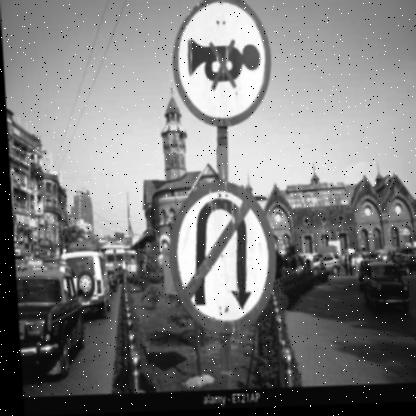No U-turn: (158, 184, 276, 337)
